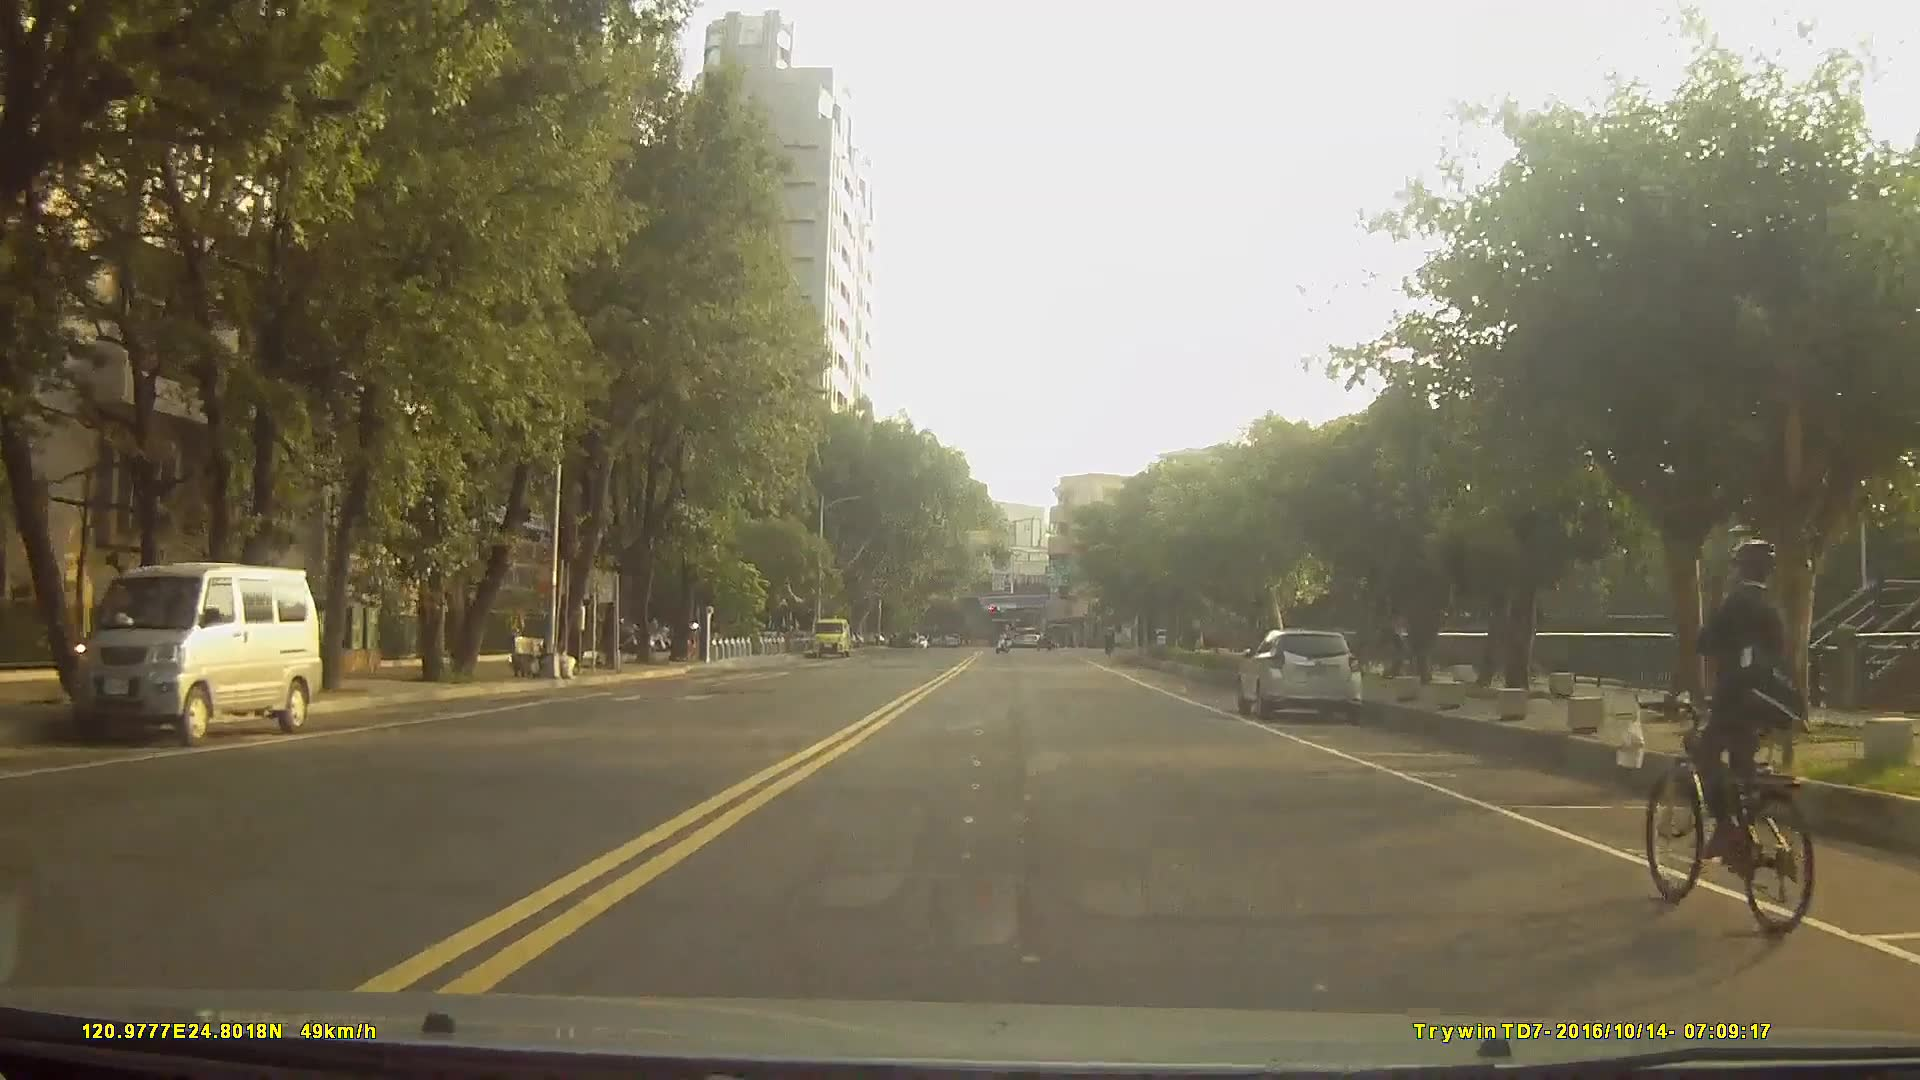rider: (1643, 538, 1817, 941)
vehicle: (68, 563, 323, 751), (1233, 627, 1365, 724), (1014, 625, 1041, 650)
